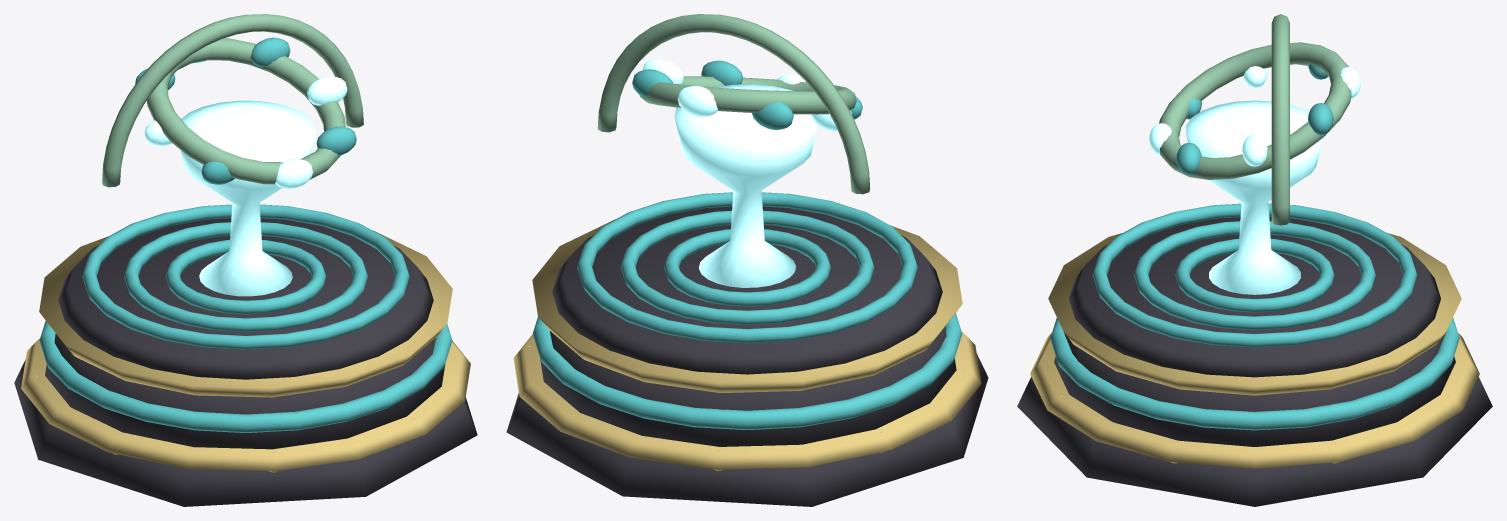
3 renders of one model, left to right at view 1: azimuth 30°, elevation 25°; view 2: azimuth 150°, elevation 25°; view 3: azimuth 270°, elevation 25°, orthographic. The views are drawn at different scales.
Parts seen in each view (by area): view 1: DC-002_Ophelia; view 2: DC-002_Ophelia; view 3: DC-002_Ophelia.
Part boxes in pixels (x1,y1,x2,y2): DC-002_Ophelia: (14, 14, 477, 506); DC-002_Ophelia: (506, 14, 988, 506); DC-002_Ophelia: (1017, 14, 1492, 506).
Size of the model in its own units: 0.92 by 0.808 by 0.92.
